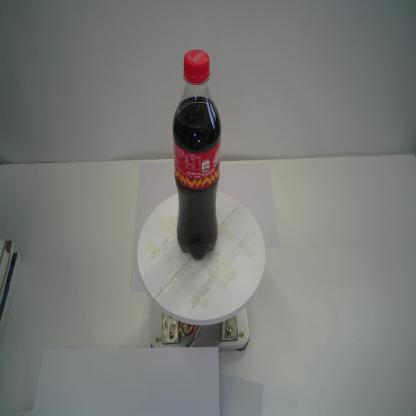Drink: (171, 47, 222, 262)
